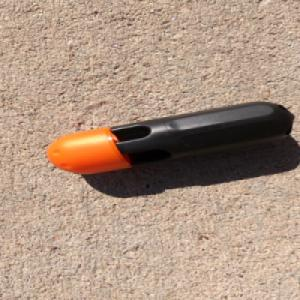PlasticPart: (45, 101, 293, 174)
